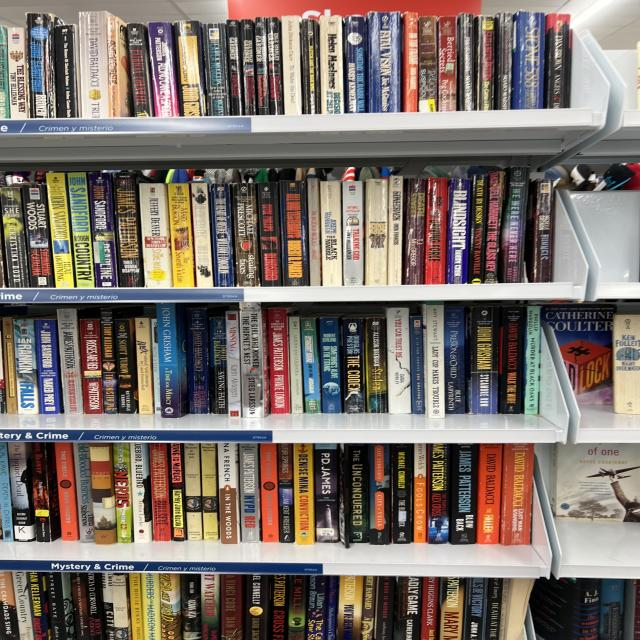book: (321, 307, 421, 414), (111, 171, 145, 288), (138, 182, 174, 288), (238, 302, 270, 418), (21, 183, 56, 289), (77, 10, 111, 119), (157, 303, 189, 418), (498, 166, 529, 282), (66, 173, 96, 288), (367, 12, 401, 112), (500, 443, 533, 546), (89, 172, 118, 288), (279, 180, 310, 287), (173, 20, 207, 117), (468, 307, 499, 413), (0, 185, 31, 289), (147, 21, 180, 118), (166, 183, 196, 288), (26, 13, 56, 118), (512, 11, 544, 109), (89, 444, 118, 545), (57, 307, 84, 415), (232, 183, 260, 287), (32, 442, 61, 542), (498, 307, 525, 414), (341, 444, 369, 546), (399, 179, 426, 284), (256, 182, 283, 287), (450, 444, 478, 544), (126, 22, 155, 118), (209, 184, 236, 287), (528, 179, 555, 282), (423, 178, 449, 284), (53, 24, 82, 118), (317, 316, 344, 414), (476, 443, 502, 544), (13, 318, 40, 415), (202, 23, 230, 116), (35, 319, 62, 415), (186, 307, 210, 414), (544, 14, 571, 108), (423, 303, 445, 418), (319, 181, 343, 286), (446, 179, 470, 283), (110, 18, 135, 117), (483, 172, 505, 284), (148, 443, 173, 541), (268, 308, 291, 414), (319, 16, 344, 113), (217, 443, 241, 544), (365, 180, 388, 285), (292, 444, 316, 544), (79, 318, 104, 414), (444, 306, 466, 413), (314, 444, 338, 542), (301, 19, 326, 113), (383, 175, 404, 286), (130, 442, 153, 543), (467, 174, 488, 284), (342, 181, 364, 285), (114, 319, 138, 414), (73, 443, 95, 543), (391, 444, 413, 543), (239, 443, 261, 542), (369, 445, 391, 544), (365, 317, 387, 413), (344, 16, 366, 112), (300, 318, 322, 414), (25, 570, 55, 640), (343, 318, 365, 413), (428, 444, 449, 543), (113, 444, 134, 543), (281, 16, 302, 114), (7, 27, 29, 120), (224, 310, 243, 417), (134, 318, 155, 414), (474, 15, 495, 111), (99, 308, 118, 414), (167, 443, 187, 541), (183, 443, 203, 540), (418, 16, 438, 112), (242, 574, 271, 639), (407, 316, 426, 414), (260, 444, 279, 542), (394, 576, 423, 640), (200, 443, 219, 540), (494, 12, 513, 109), (523, 306, 540, 414), (438, 16, 457, 111), (277, 444, 295, 542), (209, 317, 227, 414), (457, 13, 475, 110), (226, 20, 244, 115), (239, 20, 257, 115), (438, 577, 465, 639), (337, 575, 363, 639), (267, 17, 284, 114), (1, 317, 18, 414), (307, 178, 322, 286), (462, 577, 488, 639), (158, 573, 182, 640), (220, 574, 244, 640), (84, 572, 107, 640), (288, 316, 304, 413), (180, 573, 203, 640), (12, 571, 34, 640), (403, 12, 418, 112), (413, 444, 428, 543), (254, 17, 269, 115), (221, 574, 243, 640), (285, 575, 307, 640), (419, 576, 441, 640), (375, 576, 397, 640), (0, 443, 14, 542), (110, 573, 131, 638), (70, 573, 90, 640), (306, 576, 327, 639), (201, 574, 221, 639), (0, 572, 19, 639), (484, 578, 503, 640), (360, 575, 378, 640), (269, 575, 287, 639), (128, 573, 145, 640), (98, 573, 115, 639), (150, 318, 161, 414), (0, 27, 10, 119), (327, 576, 339, 639), (0, 332, 8, 413)
